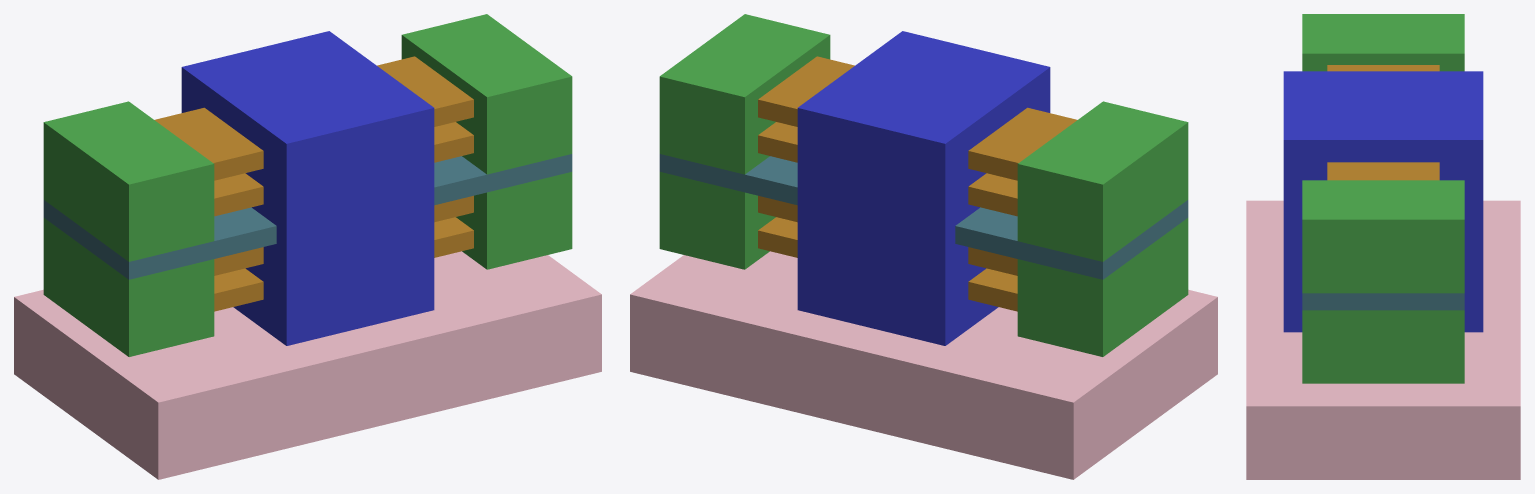
The model's file is simp_cfet.obj.
The picture shows the model from 3 angles, left to right: view 1: azimuth 30°, elevation 25°; view 2: azimuth 150°, elevation 25°; view 3: azimuth 270°, elevation 25°; orthographic projection. The views are drawn at different scales.
Parts seen in each view (by area): view 1: sub, gate, src1, drn1, src0, iso, drn0, ch11, ch10, ch00, ch01; view 2: sub, gate, src1, drn1, src0, iso, drn0, ch11, ch10, ch00, ch01; view 3: sub, gate, drn1, drn0, src1, ch11, iso.
Boxes of the visible parts, x1,y1,x2,y2 form: sub: (14, 251, 601, 479); gate: (181, 31, 434, 345); src1: (43, 101, 214, 261); drn1: (401, 14, 572, 174); src0: (43, 218, 214, 356); iso: (43, 154, 572, 279); drn0: (456, 172, 572, 269); ch11: (155, 56, 473, 180); ch10: (214, 122, 473, 216); ch00: (214, 217, 473, 311); ch01: (214, 195, 473, 275); sub: (630, 251, 1217, 479); gate: (797, 31, 1050, 345); src1: (1017, 101, 1188, 261); drn1: (659, 14, 830, 174); src0: (1017, 218, 1188, 356); iso: (659, 154, 1188, 279); drn0: (659, 172, 775, 269); ch11: (758, 56, 1076, 180); ch10: (758, 122, 1017, 216); ch00: (758, 217, 1017, 311); ch01: (758, 195, 1017, 275); sub: (1246, 200, 1520, 479); gate: (1283, 71, 1483, 332); drn1: (1302, 180, 1464, 293); drn0: (1302, 310, 1464, 383); src1: (1302, 14, 1464, 71); ch11: (1327, 65, 1439, 180); iso: (1302, 293, 1464, 310).
Bounding box in the file's own units: 156 × 96 × 88.
